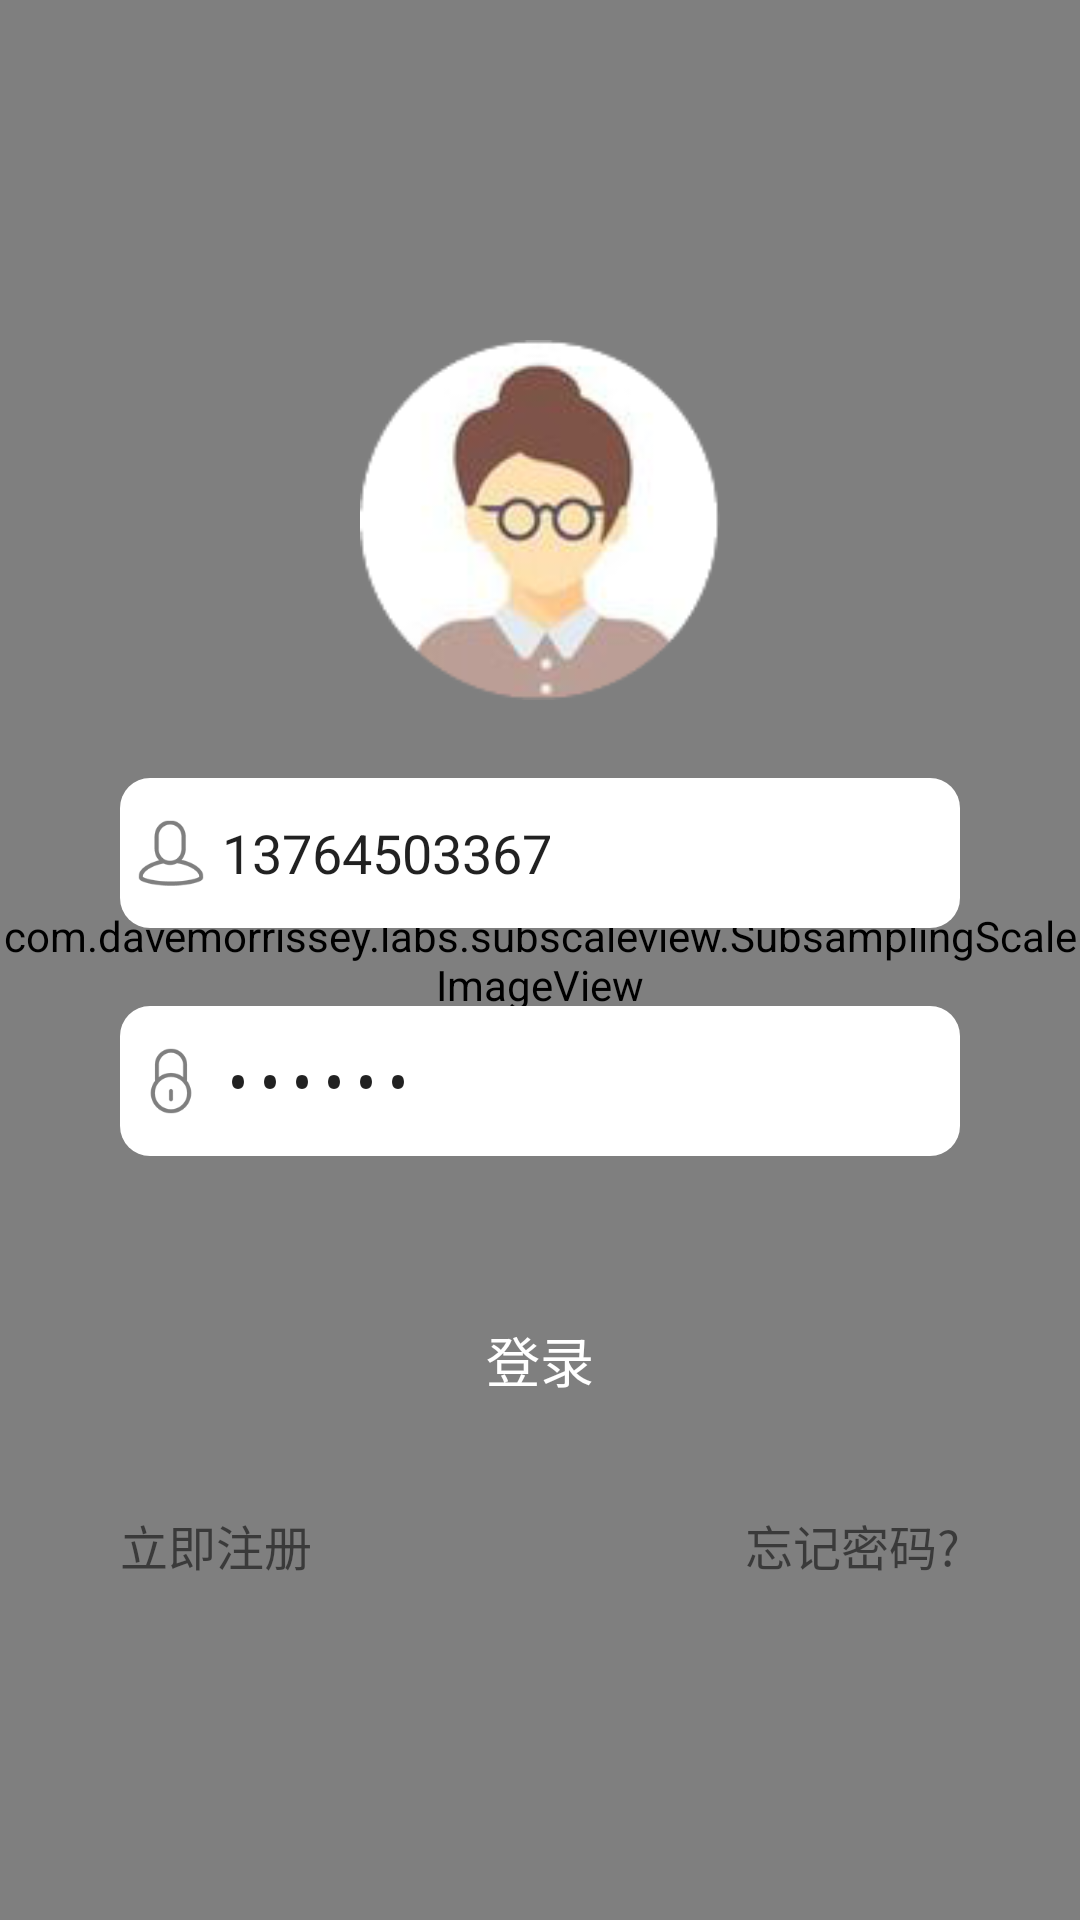

Named icons in this screenshot (1080px x 1920px) and their bounding boxes, bbox=(x1, y1, x2, y2):
login psd: bbox=(150, 1049, 192, 1113)
